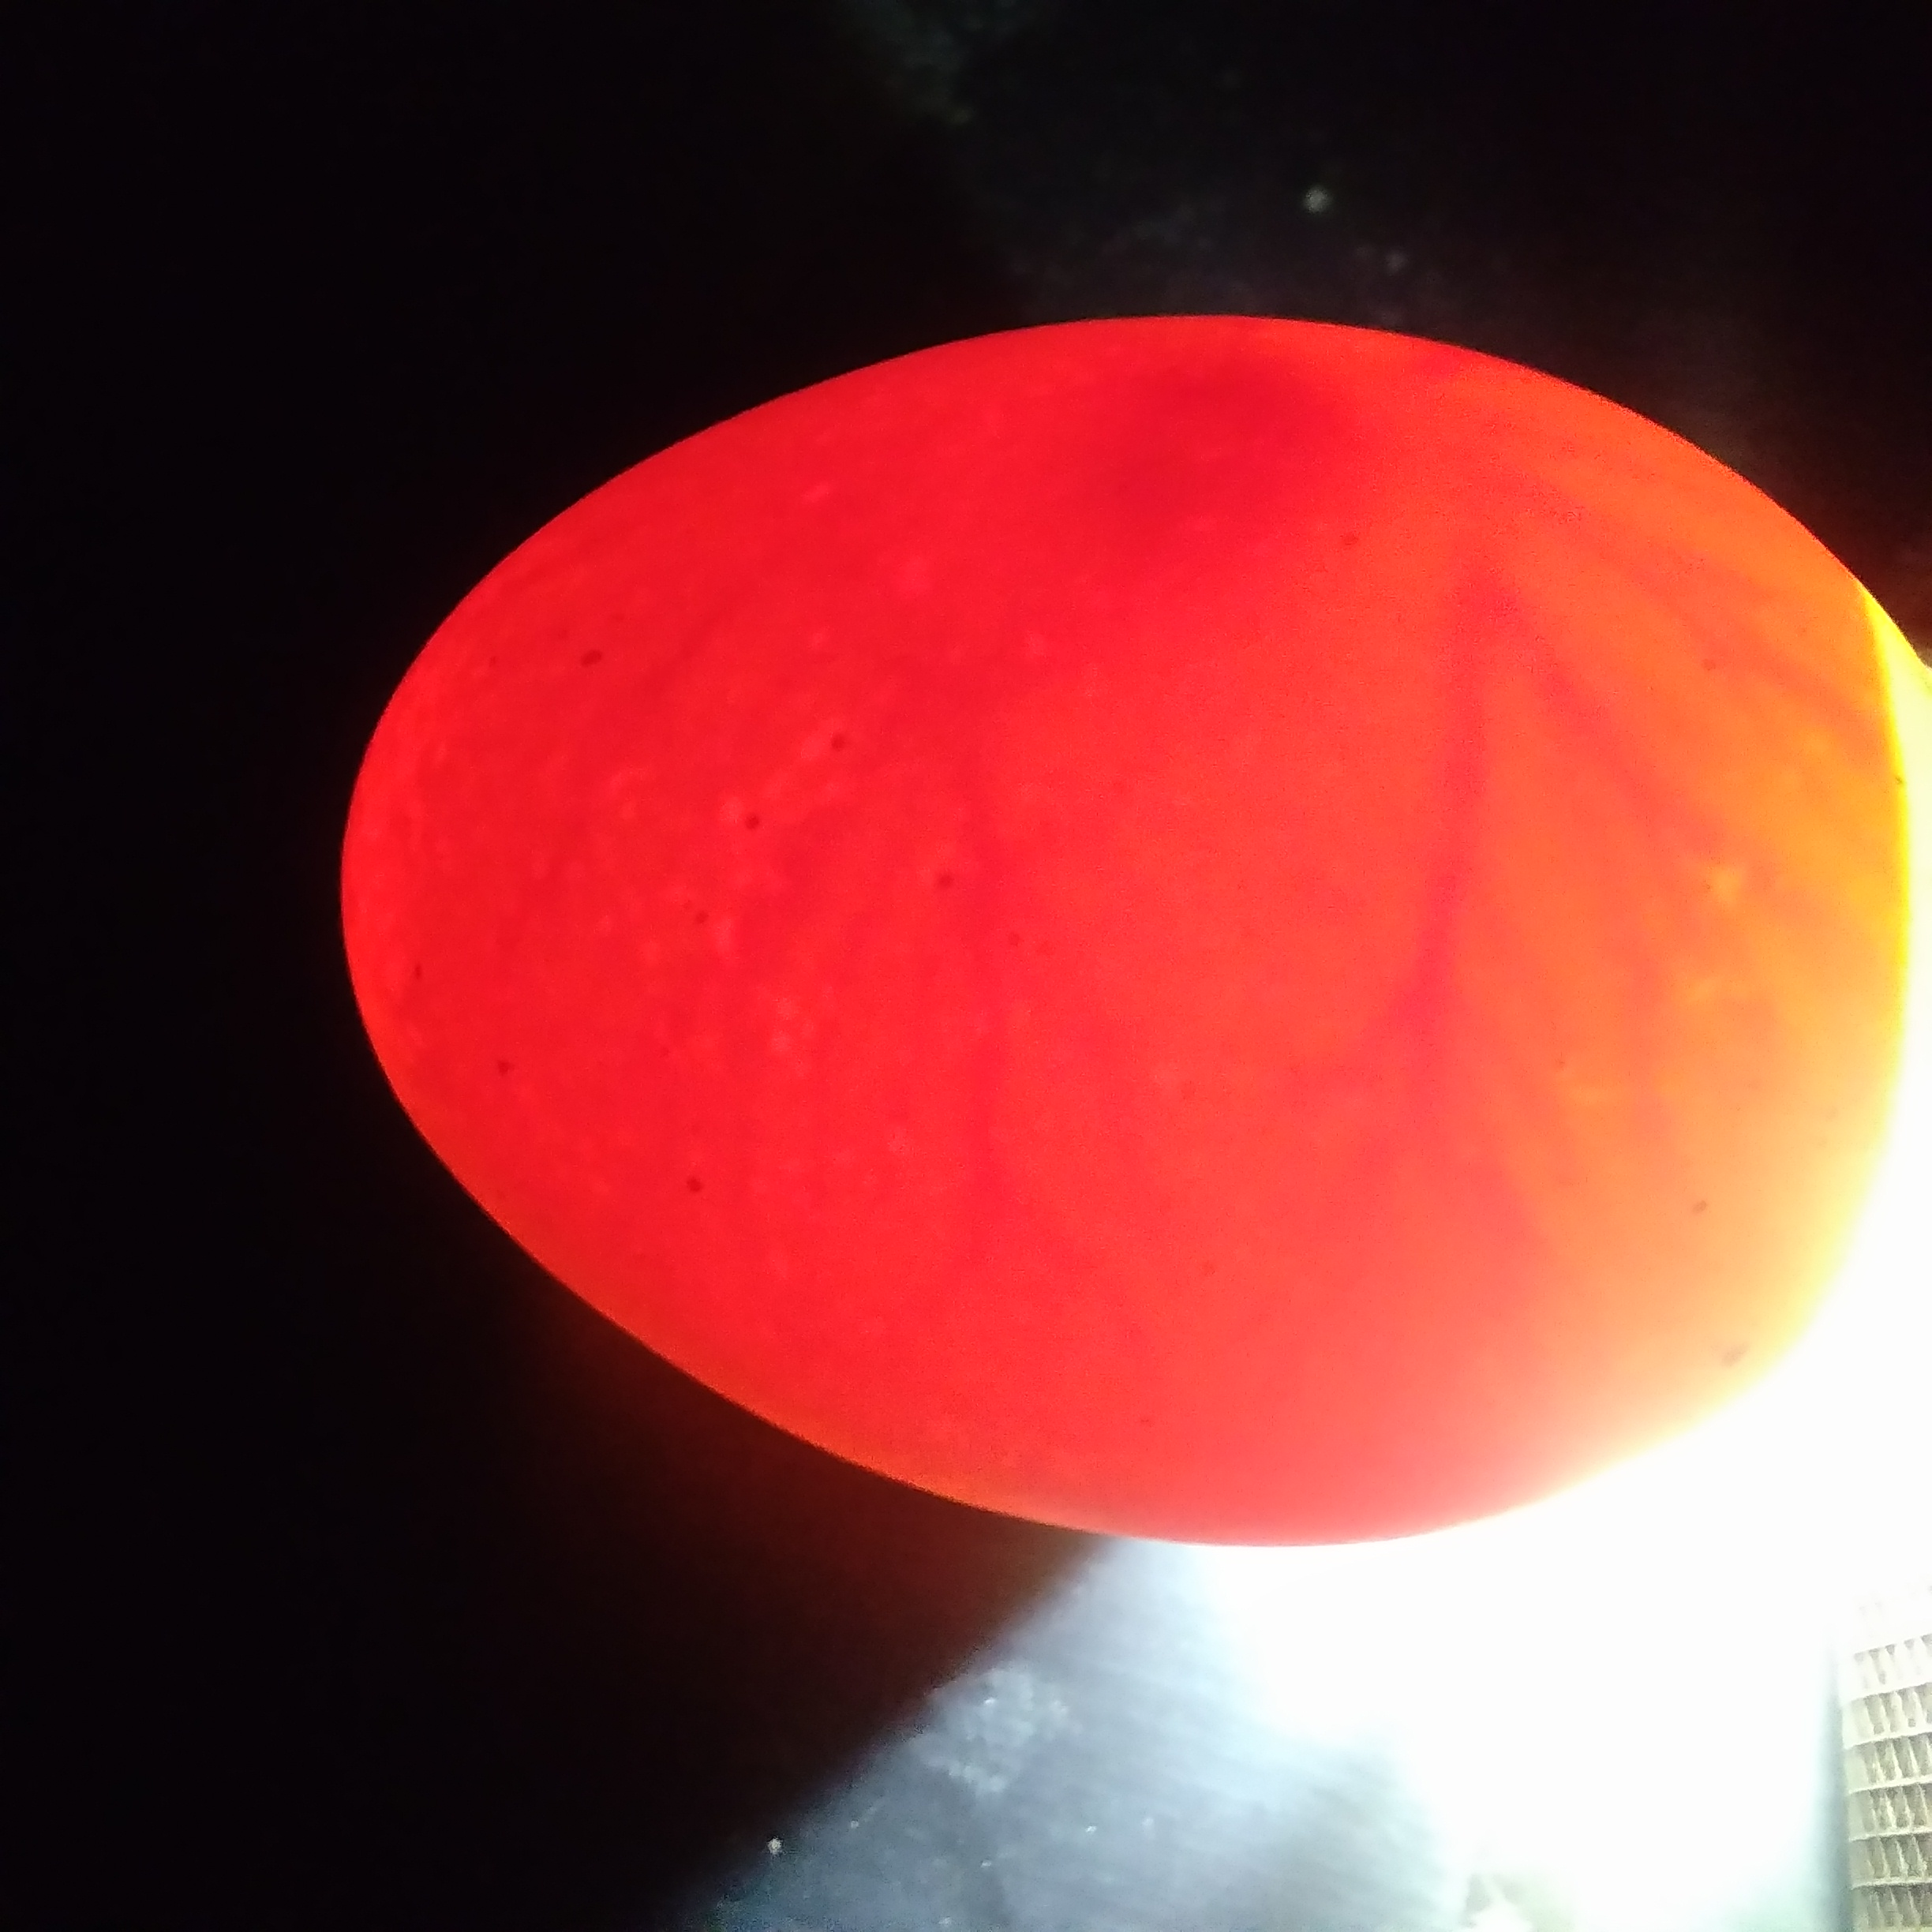bloodcell: (1398, 444, 1750, 1290)
embryo: (1088, 326, 1334, 518)
